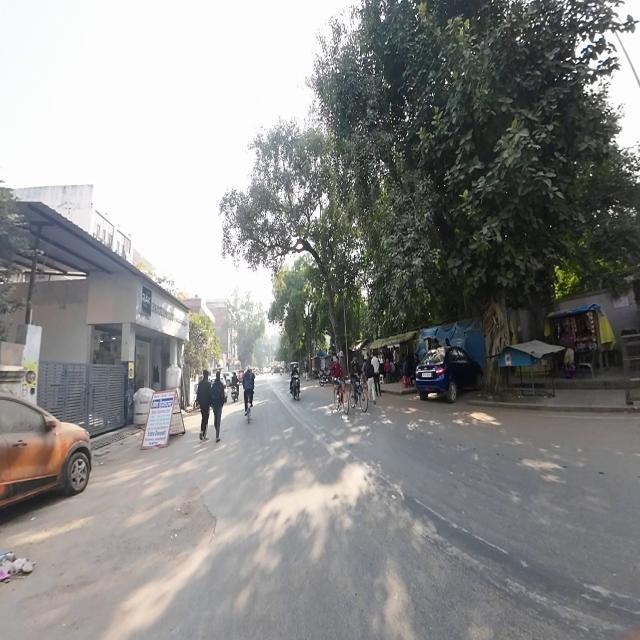Garbage: (0, 541, 35, 589)
